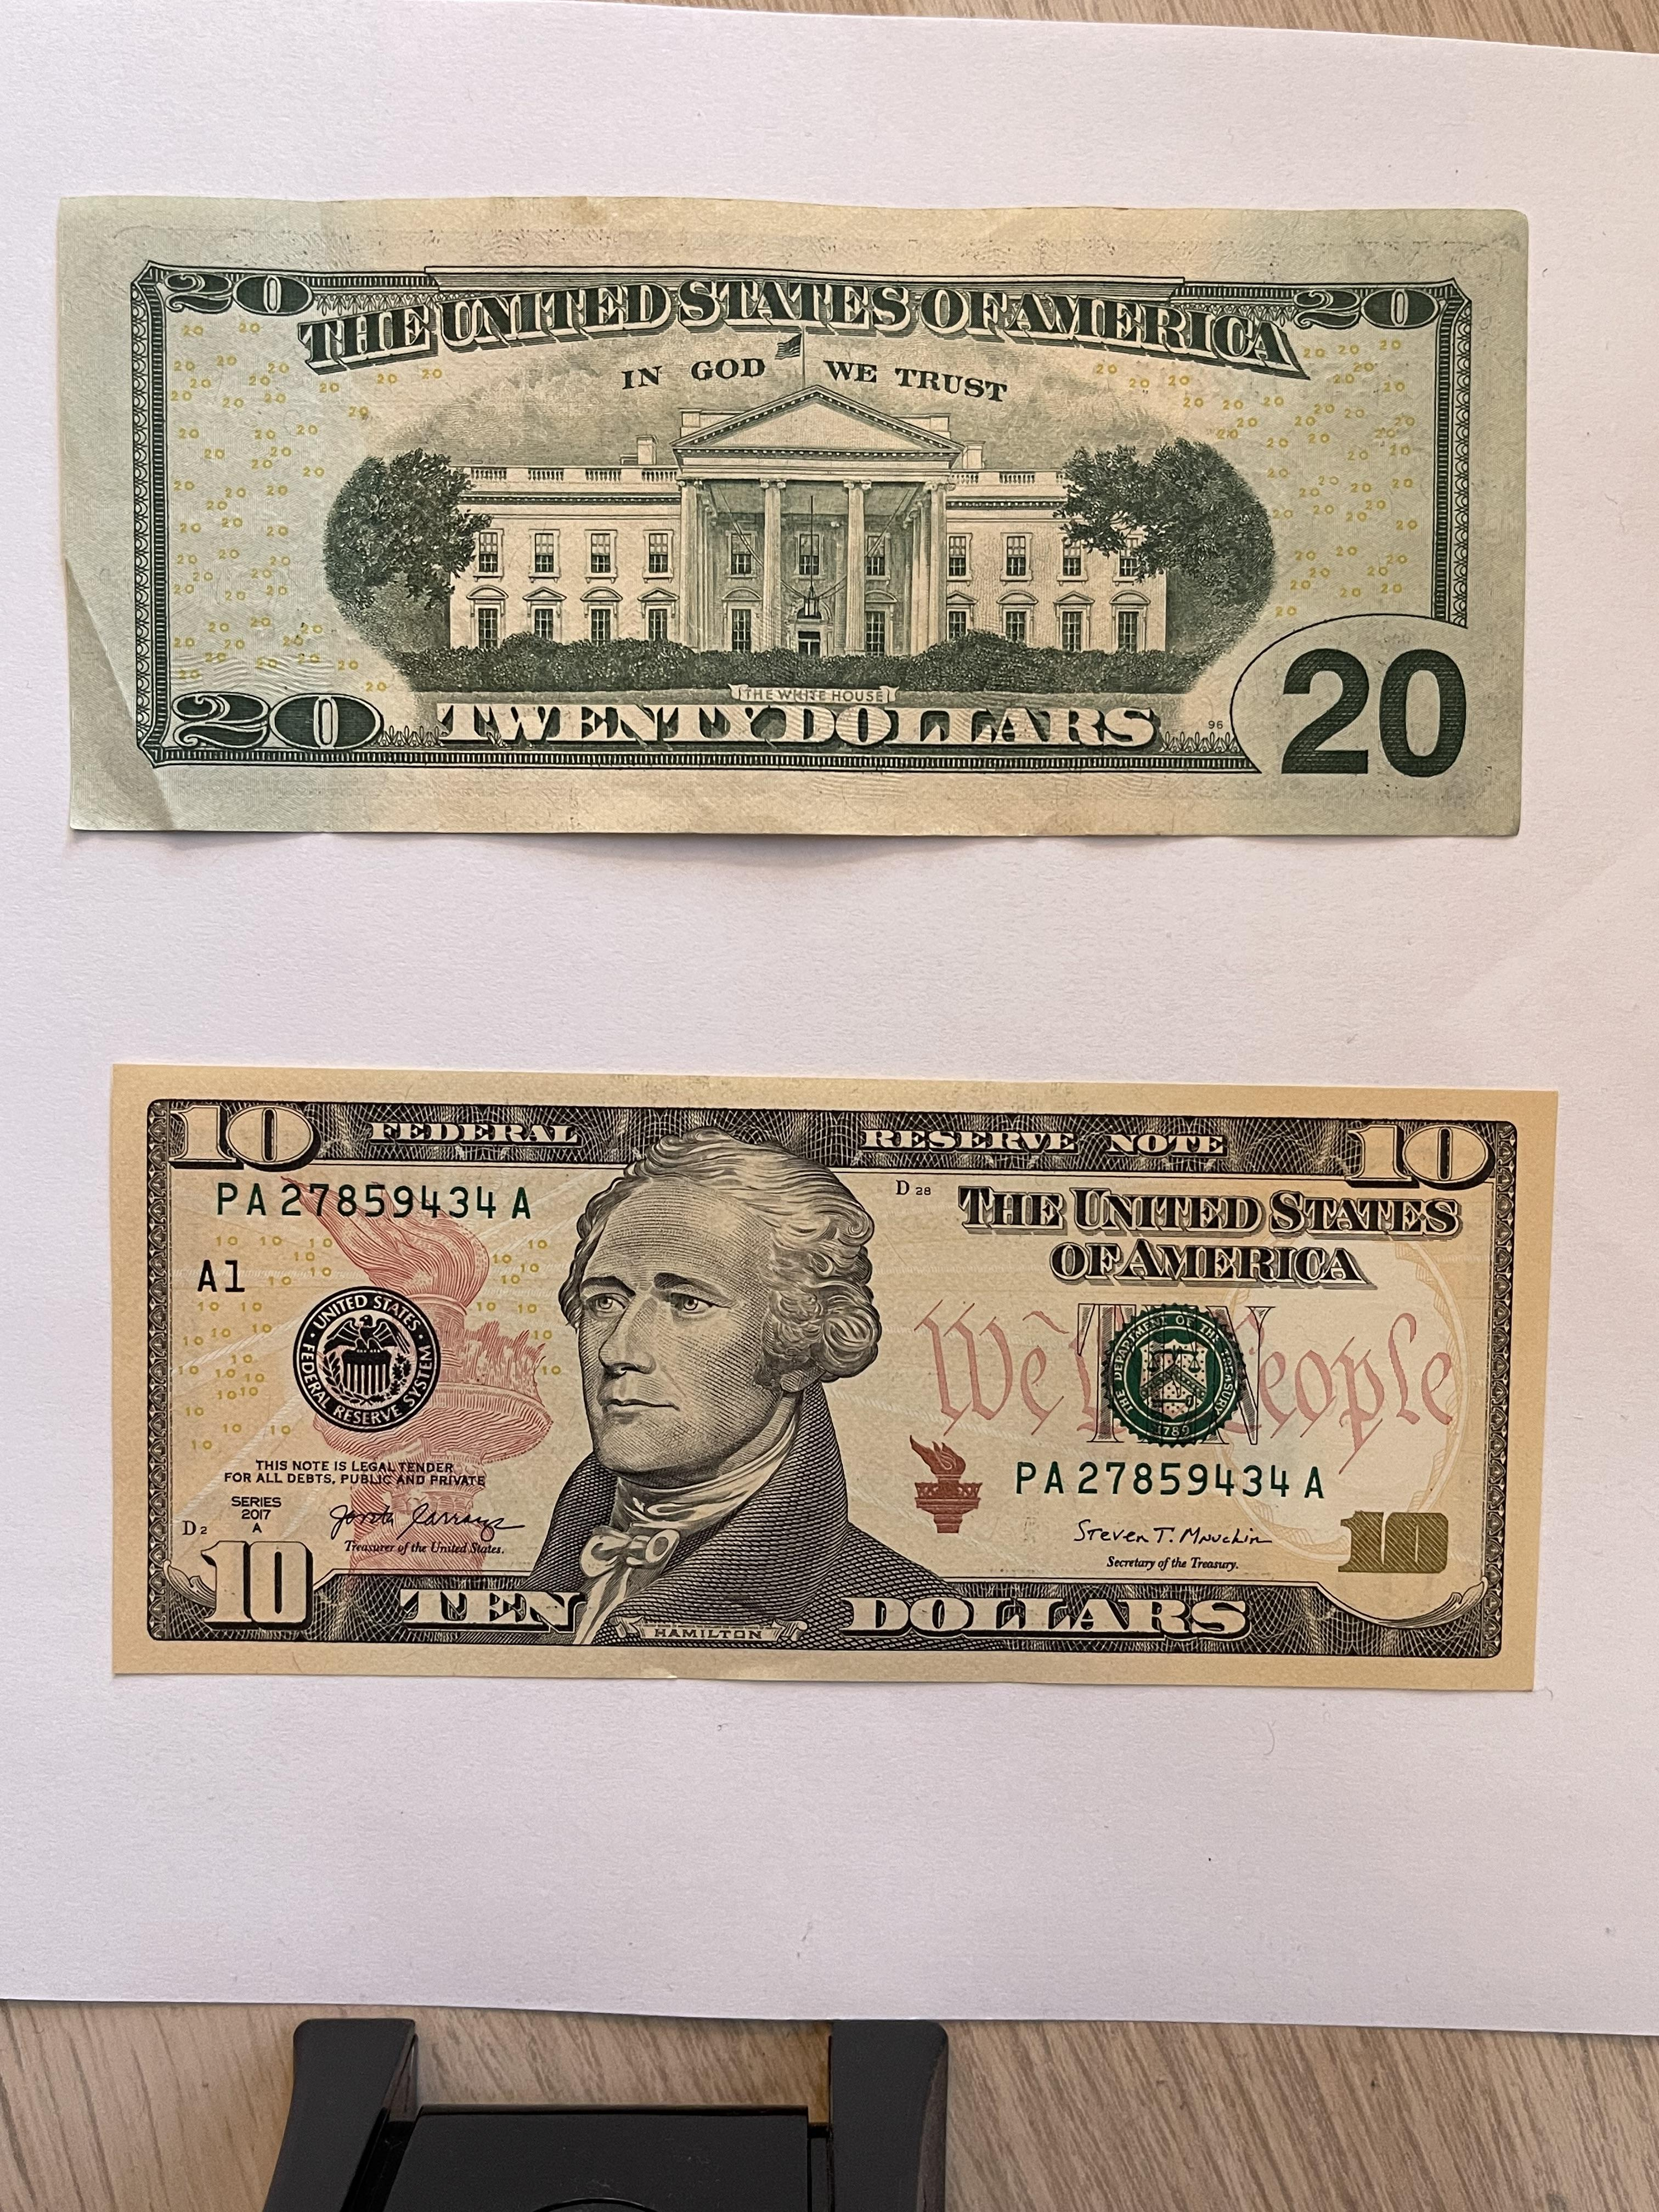TenBill: (106, 1059, 1565, 1698)
TwentyBill: (51, 190, 1532, 841)
